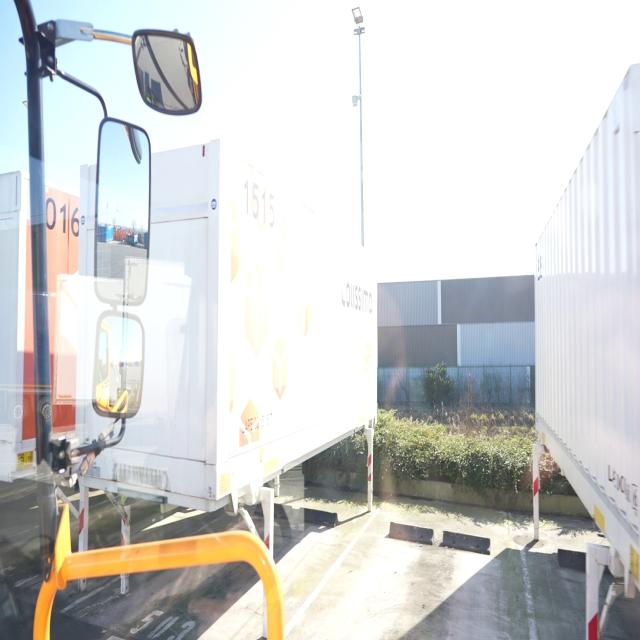Code: (239, 172, 276, 229)
